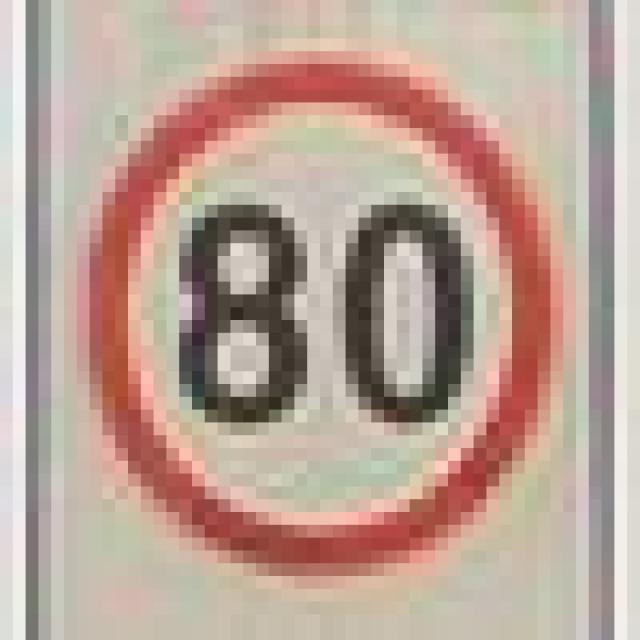speed_limit_50: (64, 39, 550, 564)
